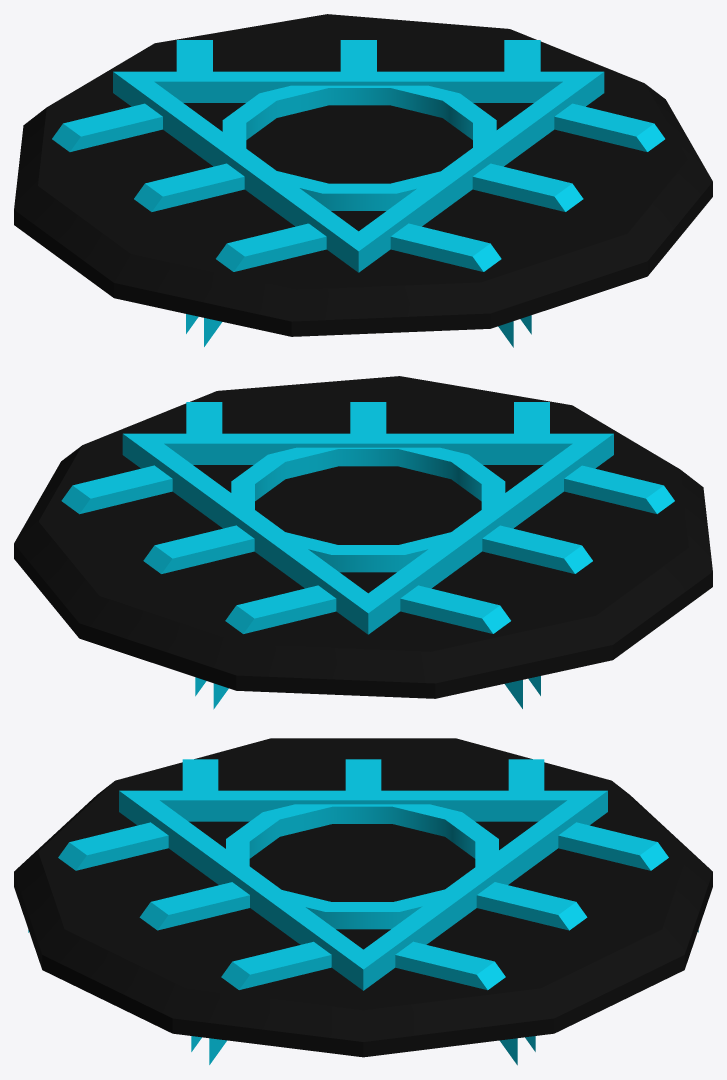
The model's file is CHECKPOINT.FBX.
3 renders of one model, top to bottom at view 1: azimuth 30°, elevation 25°; view 2: azimuth 150°, elevation 25°; view 3: azimuth 270°, elevation 25°, orthographic.
Parts seen in each view (by area): view 1: Cylinder007; view 2: Cylinder007; view 3: Cylinder007.
Boxes of the visible parts, left/top/right/bottom form: Cylinder007: left=14, top=14, right=712, bottom=347; Cylinder007: left=14, top=376, right=712, bottom=709; Cylinder007: left=14, top=738, right=712, bottom=1065.
Size of the model in its own units: 14.7 by 2.1 by 14.85.
